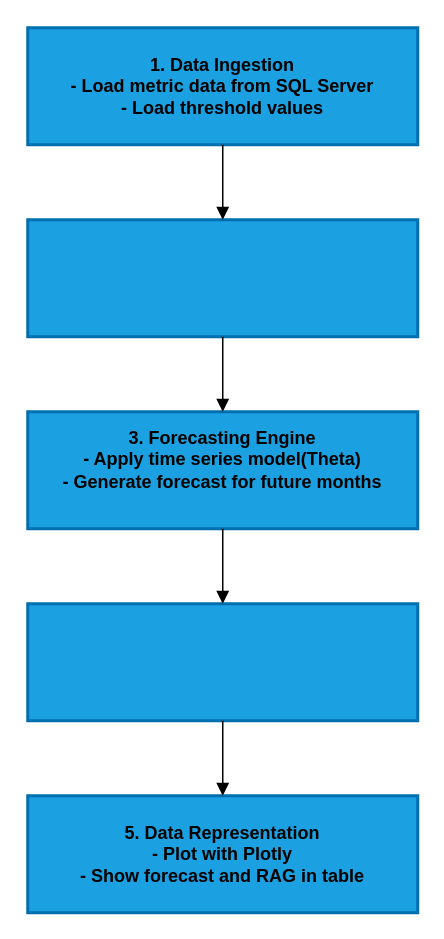
Some shapes in this 444 by 939 pixel diagram are drawn without their labels. The shapes that lost their labels are listed below. From the top down, each one's centre as x and y in pixels, then its label:
At (x=222, y=278): "2. Data Preprocessing - Filter by Metric, View, Level - Clean missing values".
At (x=222, y=662): "4. RAG Status Evaluation - Compare forecasts with thresholds - Label RAG status".
